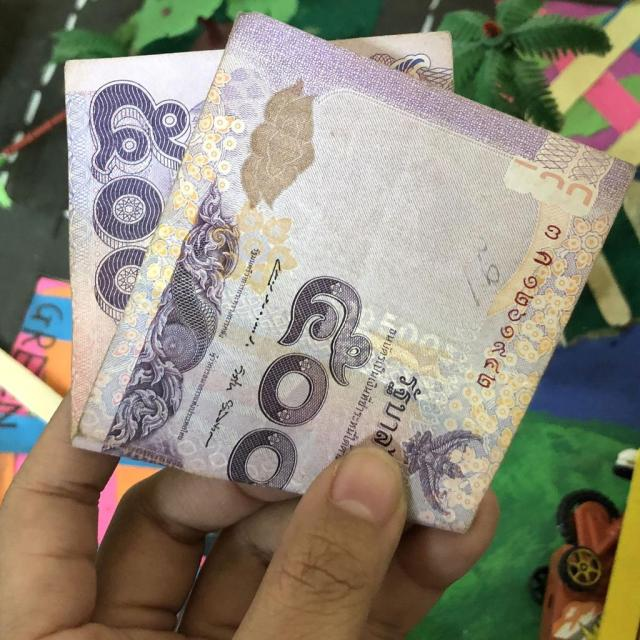THAI500: (66, 14, 631, 531)
